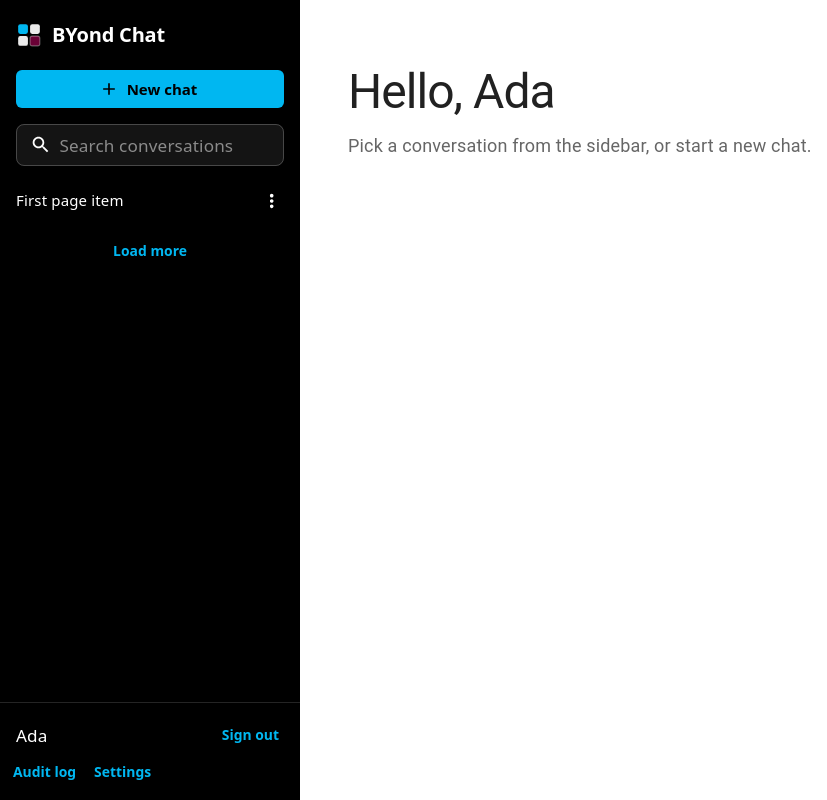
Test: conversations sidebar › loads the next page with the server cursor
Expected: the text "First page item" is shown, x1=16 y1=190 x2=124 y2=210
Click the button "Load more": (150,252) x1=108 y1=235 x2=192 y2=268
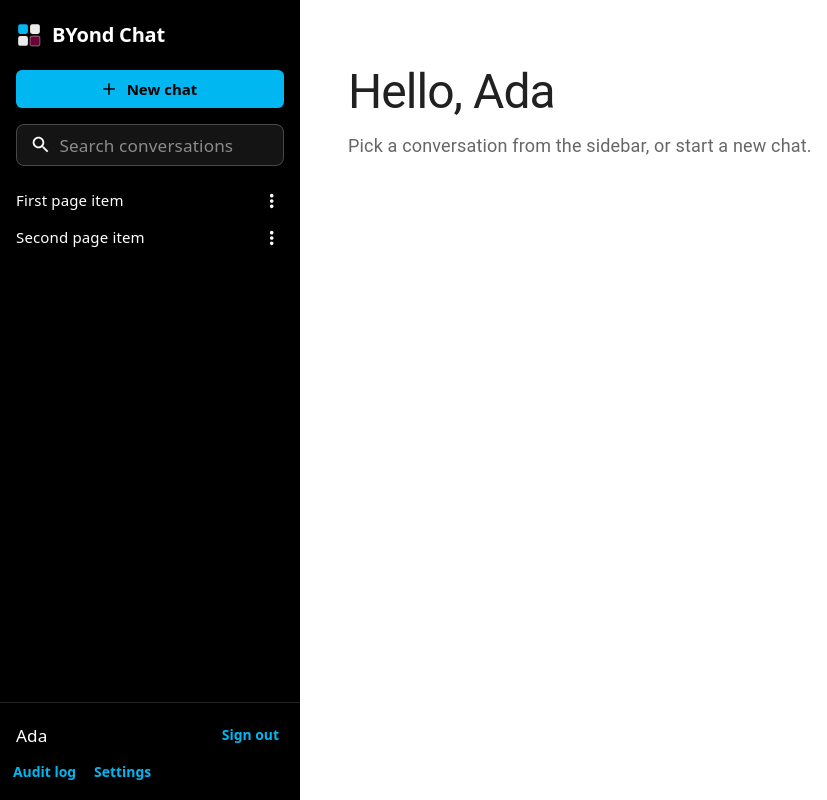
Now the text "Second page item" is shown, box x1=16 y1=227 x2=145 y2=247
Now the button "Load more" is gone
